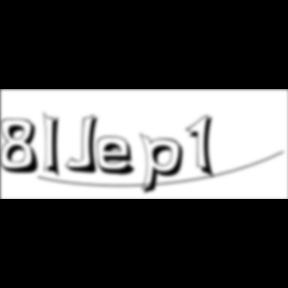1: (186, 114, 220, 182)
8: (0, 117, 46, 176)
I: (43, 110, 67, 182)
J: (66, 114, 104, 176)
e: (97, 135, 143, 178)
p: (140, 132, 190, 198)
